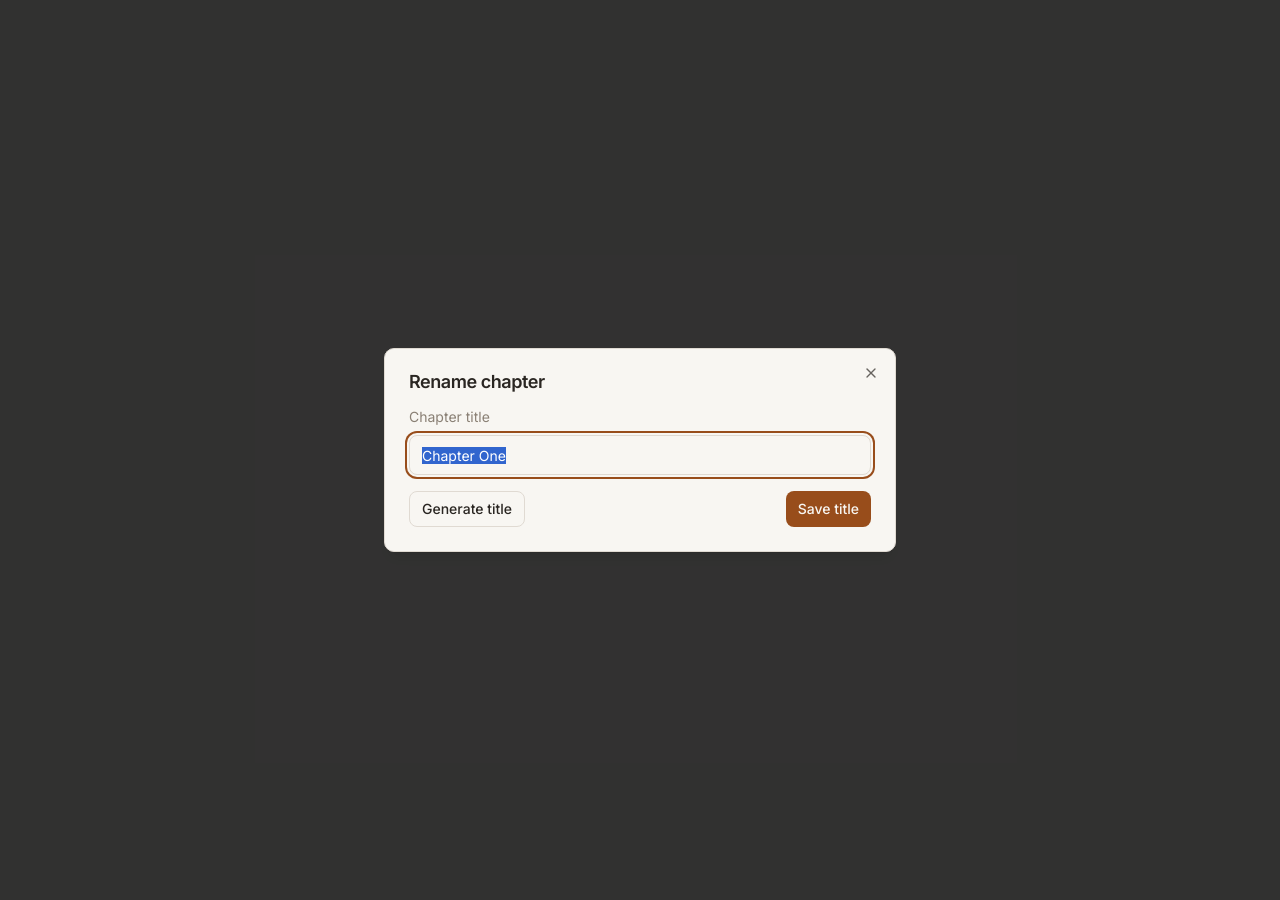
Scenario: ChapterRenameDialog › applies the suggested title when Use suggestion is clicked
The image size is (1280, 900).
Click the button "Generate title": (467, 509) [409,491,525,527]
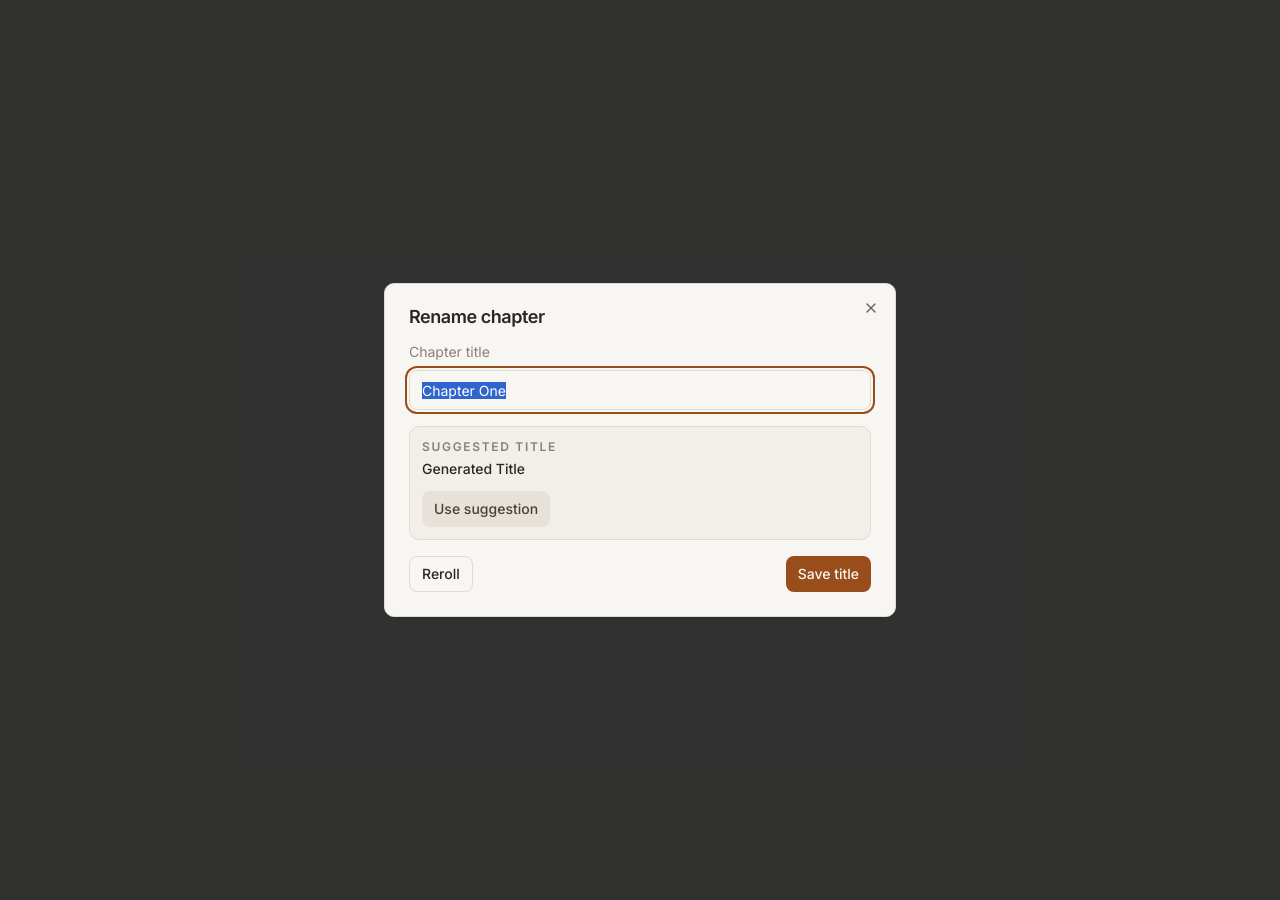
expect the button "Use suggestion" is shown: met
Click the button "Use suggestion": (486, 509) [422,491,550,527]
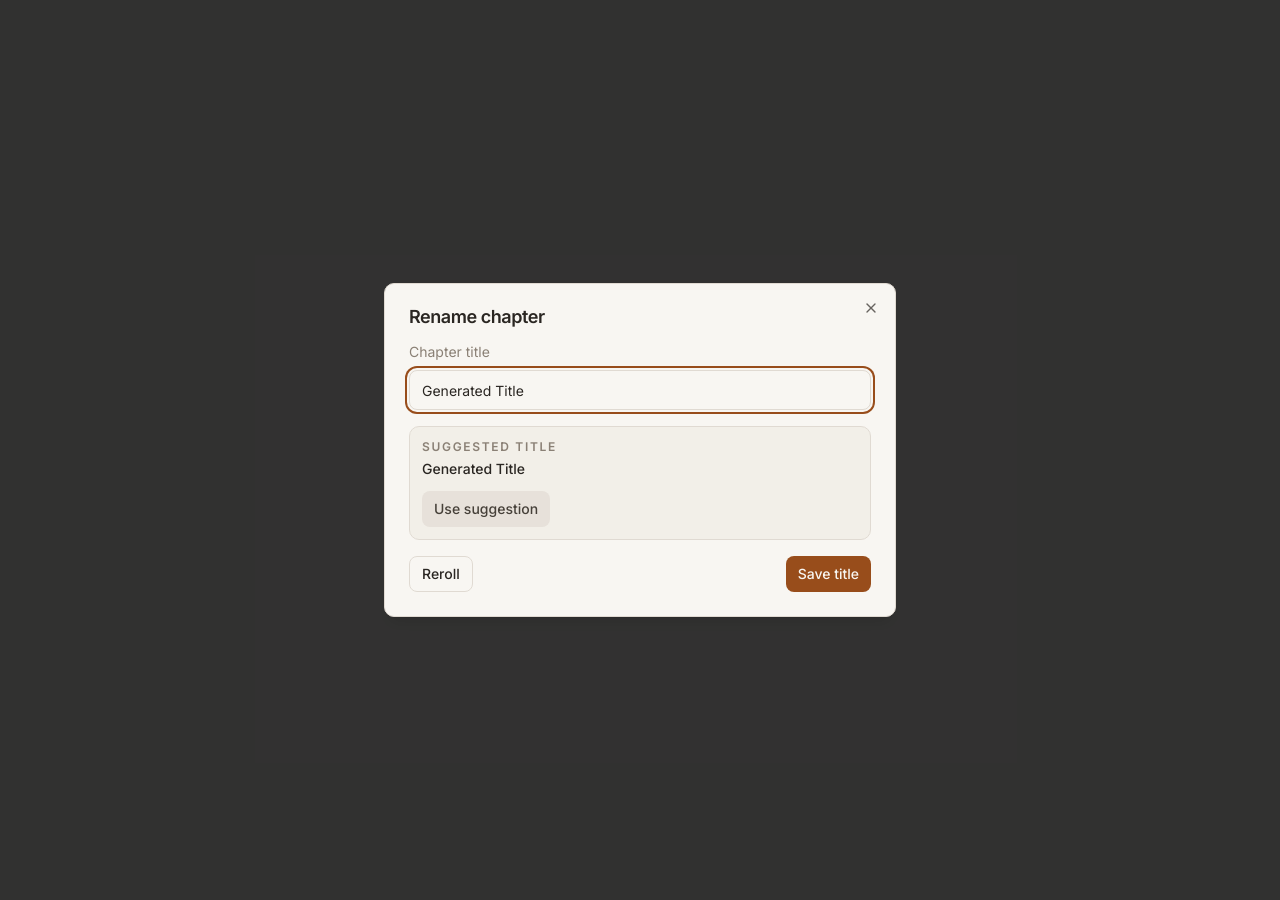
expect the field labelled "Chapter title" holds "Generated Title": met, box [409,370,871,410]
